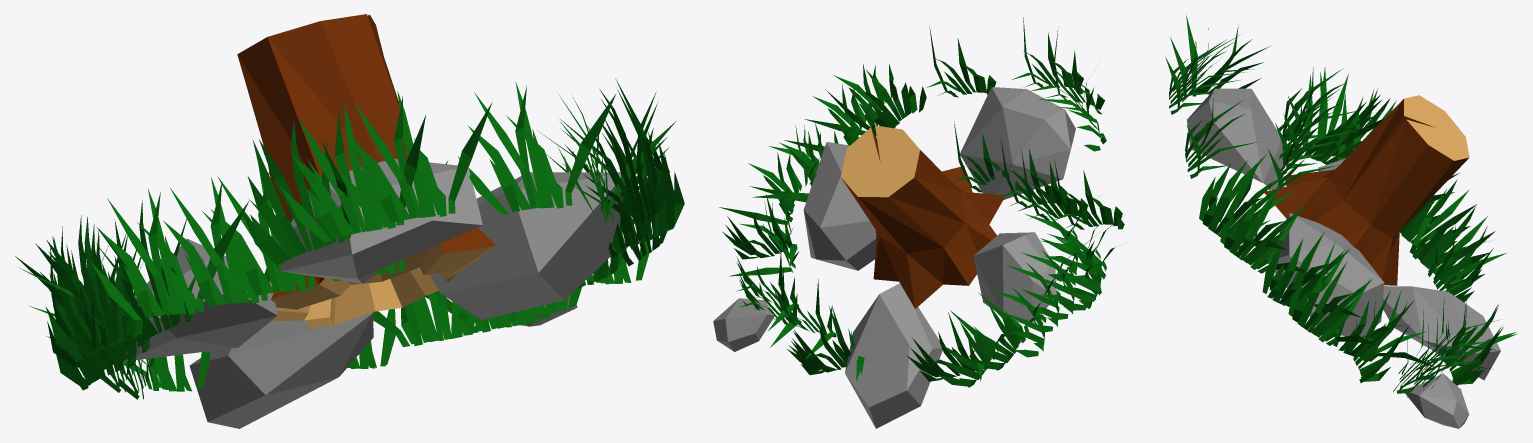
Rendered from GrassyStump.fbx.
3 views of the same model, side by side, from view 1: azimuth 30°, elevation 25°; view 2: azimuth 150°, elevation 25°; view 3: azimuth 270°, elevation 25° (orthographic). The views are drawn at different scales.
Visible parts, largest first — view 1: grass.078; view 2: grass.078; view 3: grass.078.
Boxes of the visible parts, left/top/right/bottom form: grass.078: left=15, top=14, right=684, bottom=428; grass.078: left=713, top=17, right=1124, bottom=428; grass.078: left=1165, top=14, right=1517, bottom=428.
Size of the model in its own units: 144 by 104 by 102.
